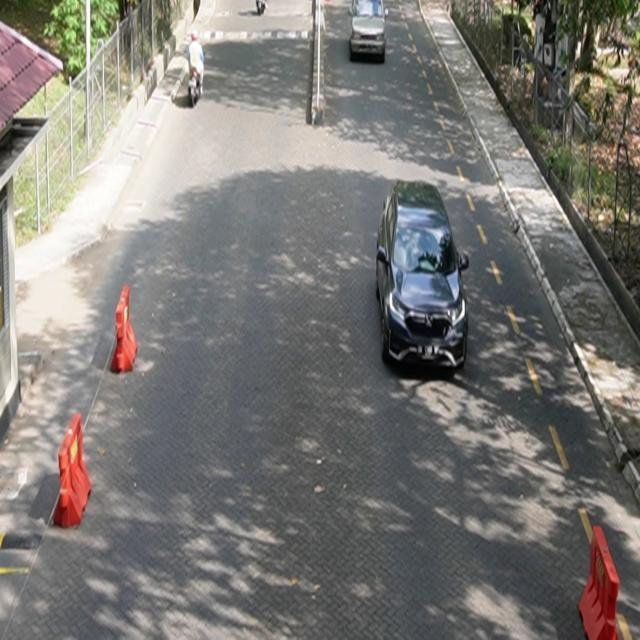car: (376, 180, 470, 371), (349, 1, 390, 63)
